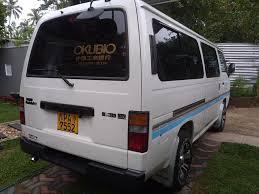Van: (17, 0, 235, 183)
